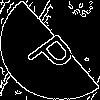P: (24, 25, 86, 80)
